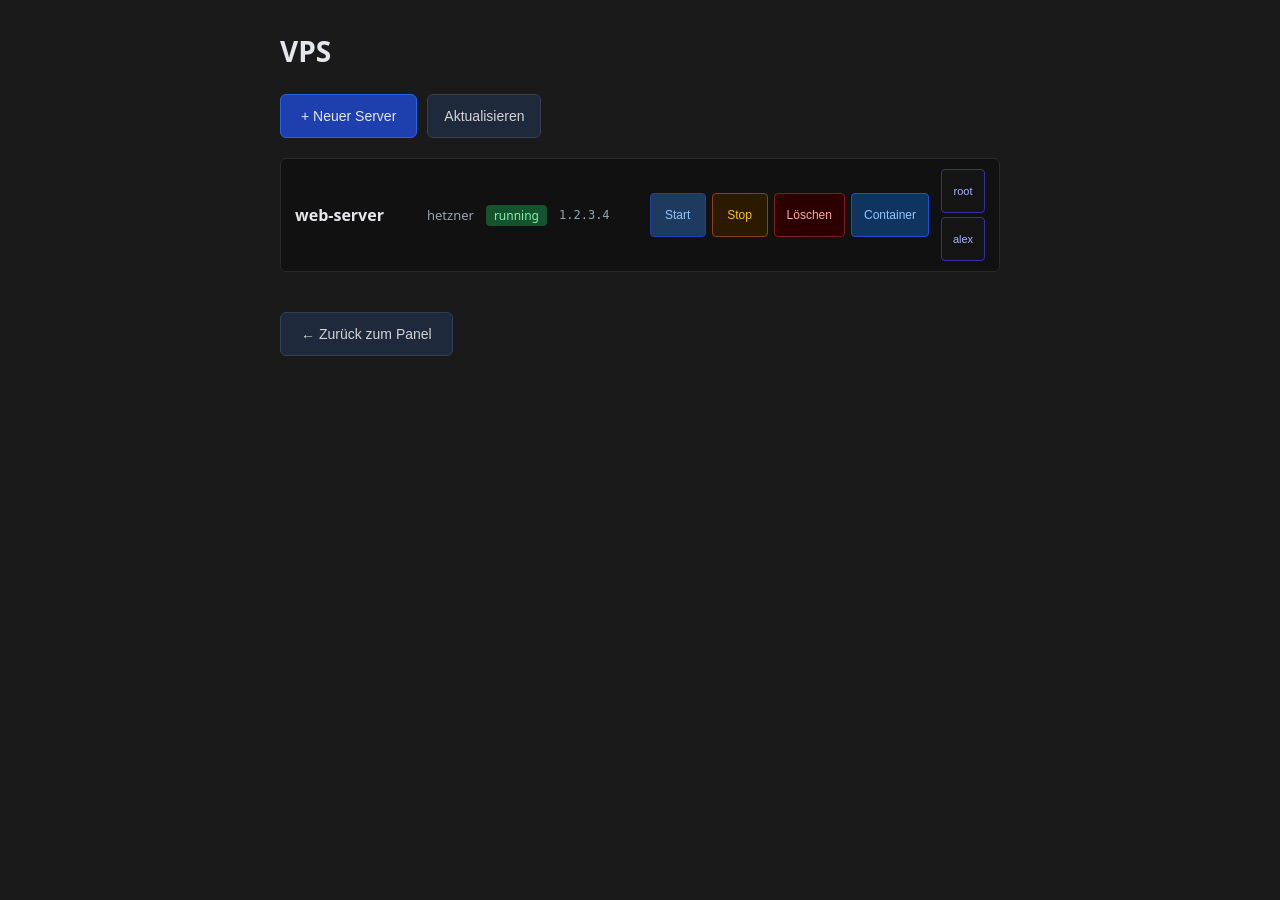
VpsContainerScanButton — AC10: Klick öffnet Panel + sperrt Knopf › nach Abschluss (done) + Schließen kann ein neuer Scan gestartet werden
Click the button "Container" at (890, 215), box left=851, top=193, right=929, bottom=237
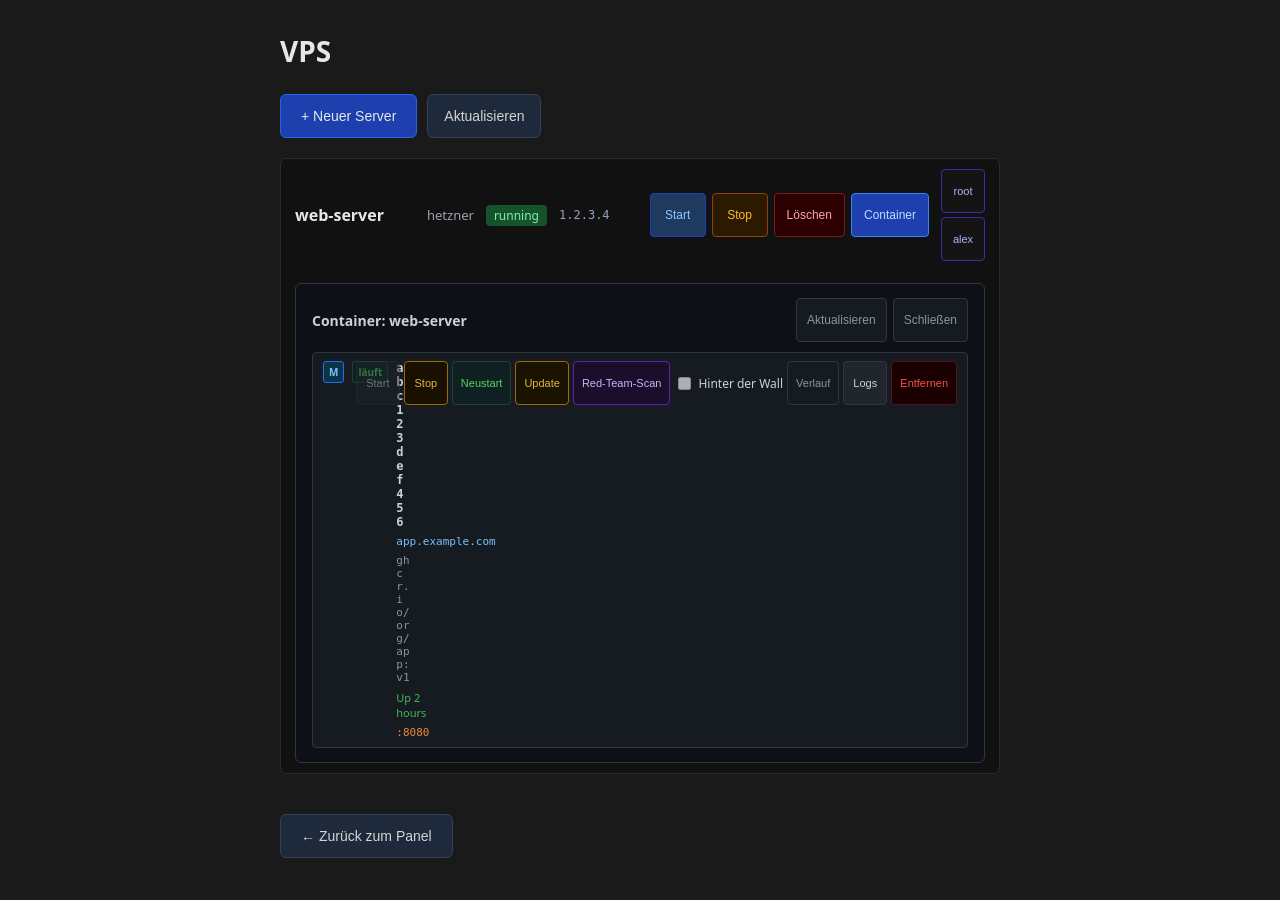
Now the button with aria-label "red-team-scan für container abc123def456" is shown
Click the button with aria-label "red-team-scan für container abc123def456" at (622, 383), box left=573, top=361, right=670, bottom=405
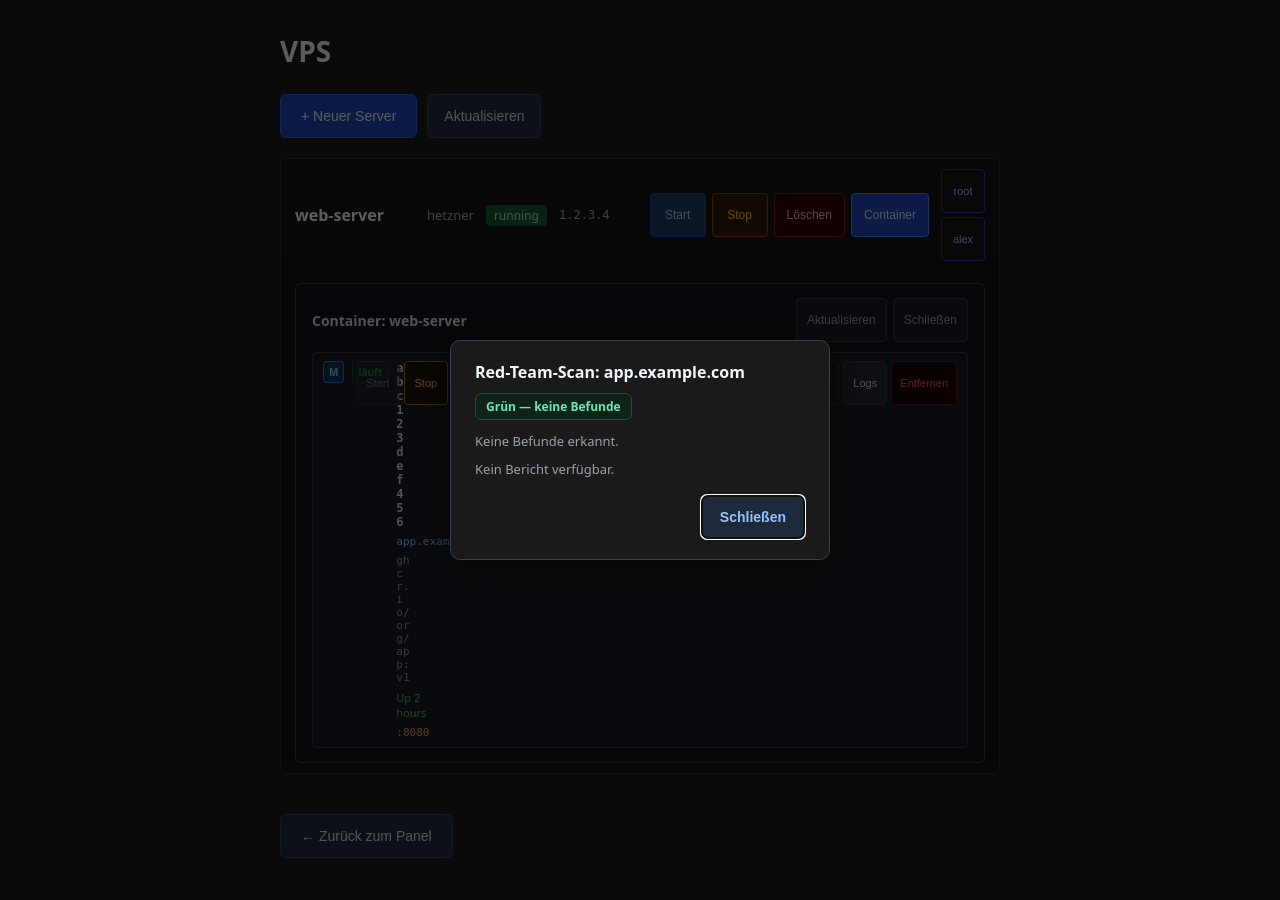
Now the element with test id "redteam-scan-result" is shown, box left=475, top=393, right=632, bottom=478
Now the button with aria-label "red-team-scan für container abc123def456" is disabled, box left=573, top=361, right=670, bottom=405
Click the button with test id "redteam-scan-close-btn" at (753, 517), box left=701, top=495, right=805, bottom=539
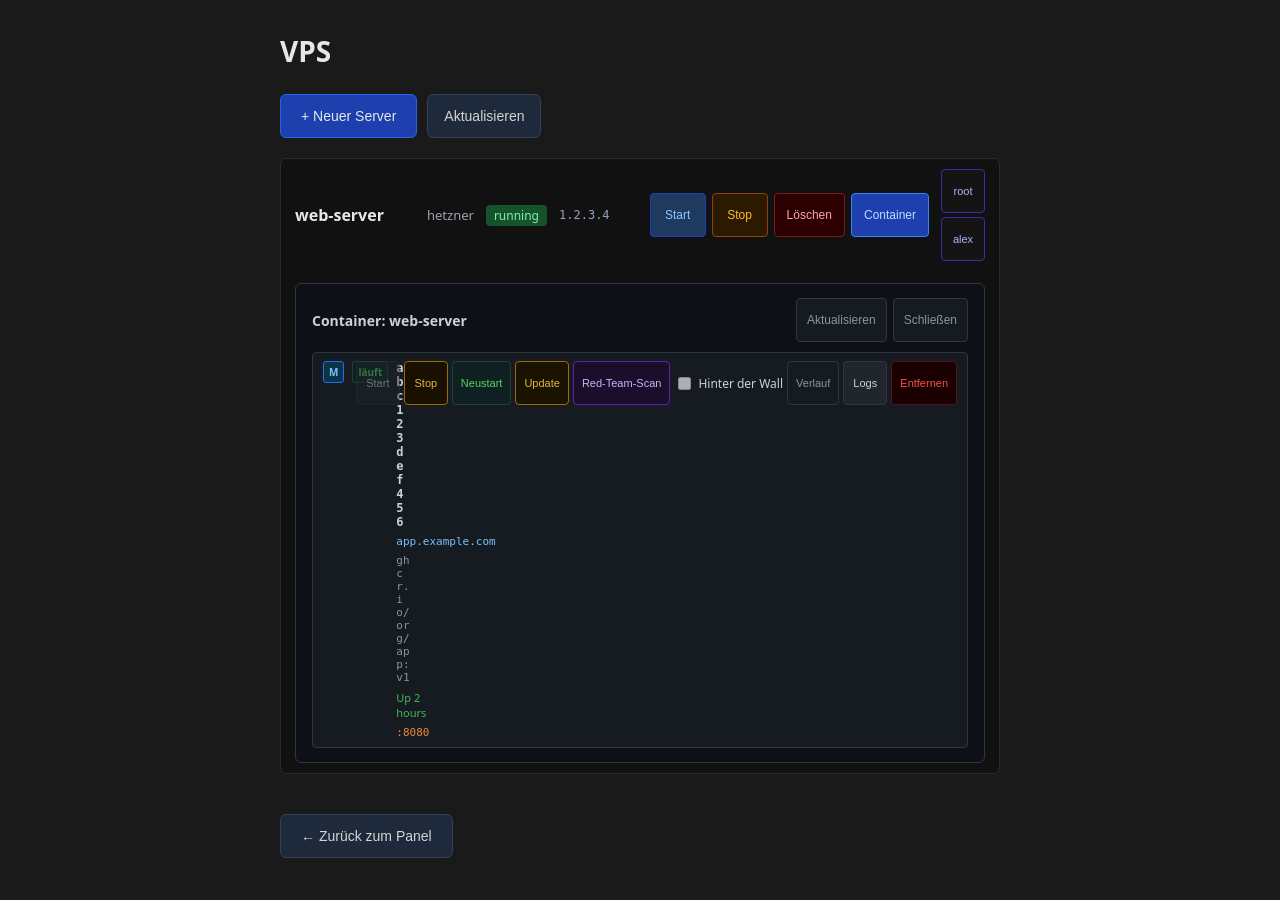
Now the button with aria-label "red-team-scan für container abc123def456" reads "Red-Team-Scan", box left=573, top=361, right=670, bottom=405
Now the button with aria-label "red-team-scan für container abc123def456" is enabled, box left=573, top=361, right=670, bottom=405
